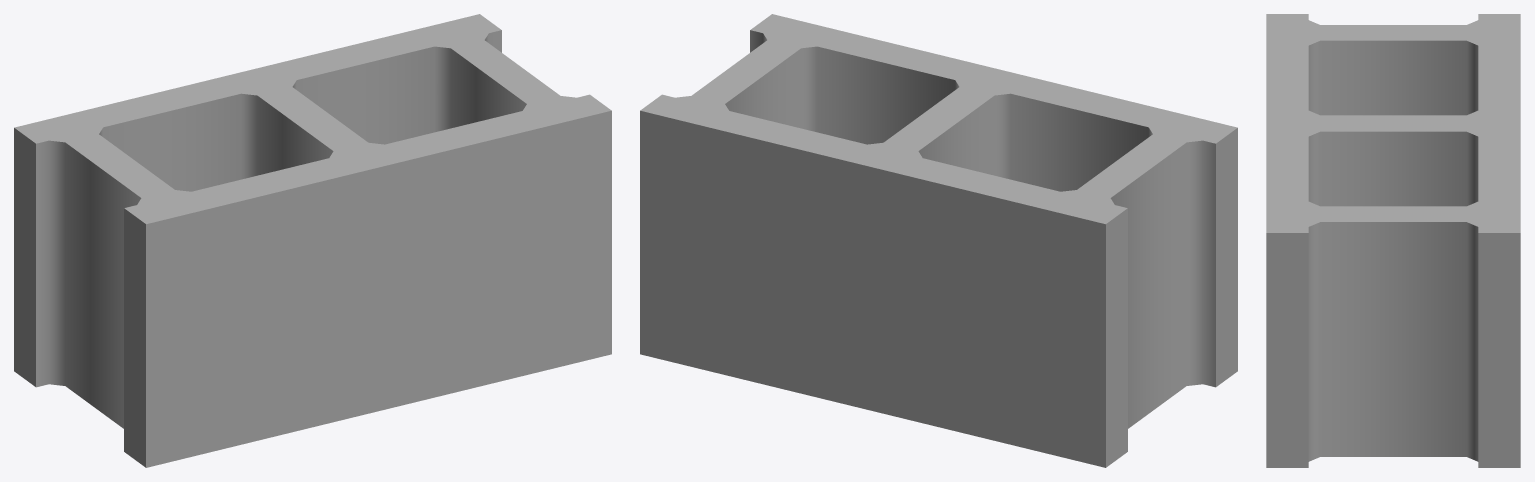
3 views of the same model, side by side, from view 1: azimuth 30°, elevation 25°; view 2: azimuth 150°, elevation 25°; view 3: azimuth 270°, elevation 25° (orthographic). The views are drawn at different scales.
Visible parts, largest first — view 1: CMU-stretcher; view 2: CMU-stretcher; view 3: CMU-stretcher.
Boxes of the visible parts, left/top/right/bottom form: CMU-stretcher: left=14, top=14, right=611, bottom=467; CMU-stretcher: left=640, top=14, right=1237, bottom=467; CMU-stretcher: left=1266, top=14, right=1520, bottom=467.
Size of what is drawn, in the model's own units: 0.3999 by 0.2 by 0.1964.
Materials: 1 (1 with a texture image).
